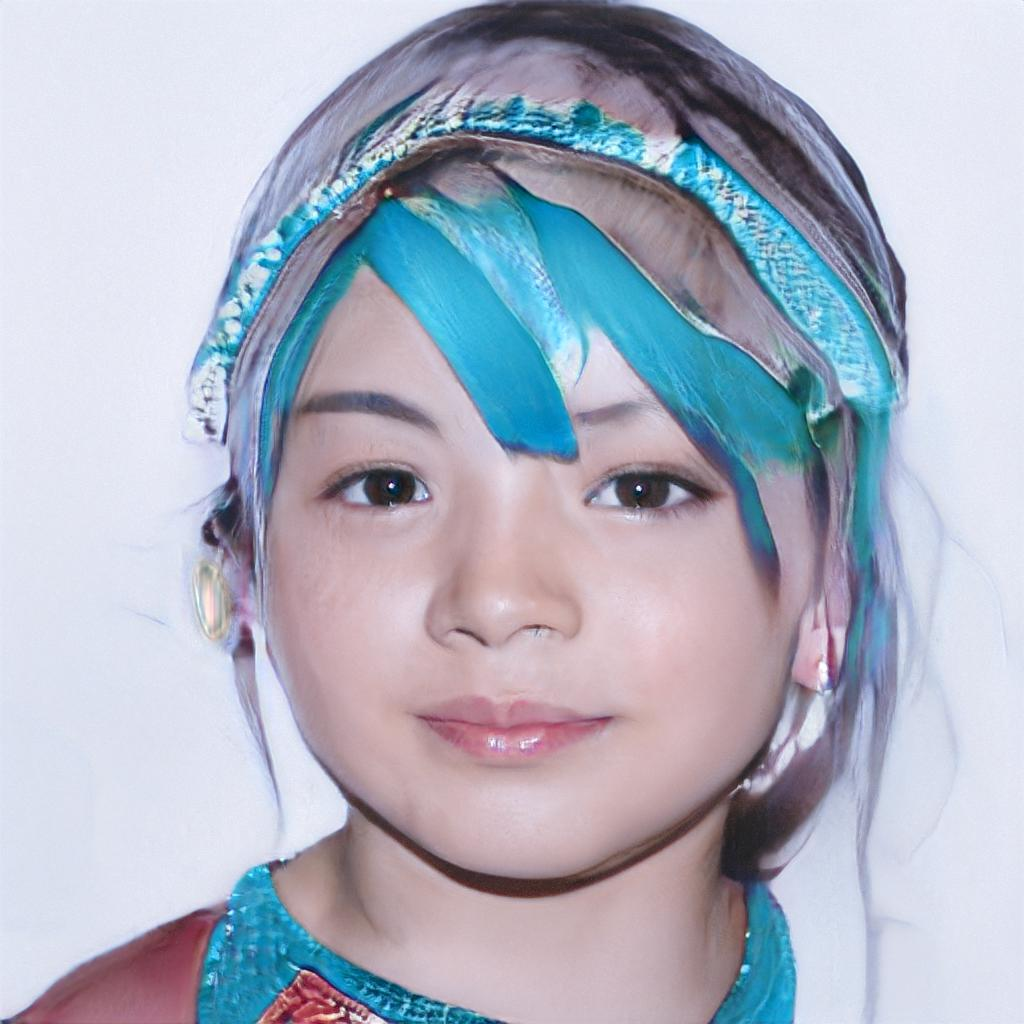face: (260, 197, 803, 878)
